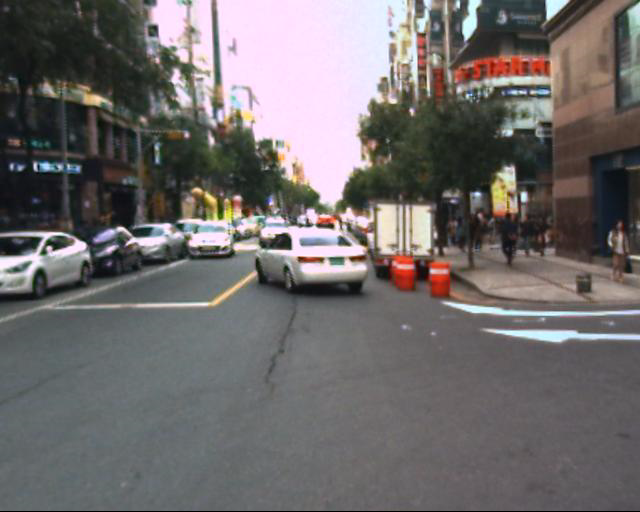person: (448, 202, 550, 270), (603, 218, 631, 289), (497, 208, 522, 271), (528, 211, 556, 264), (516, 212, 537, 265)
